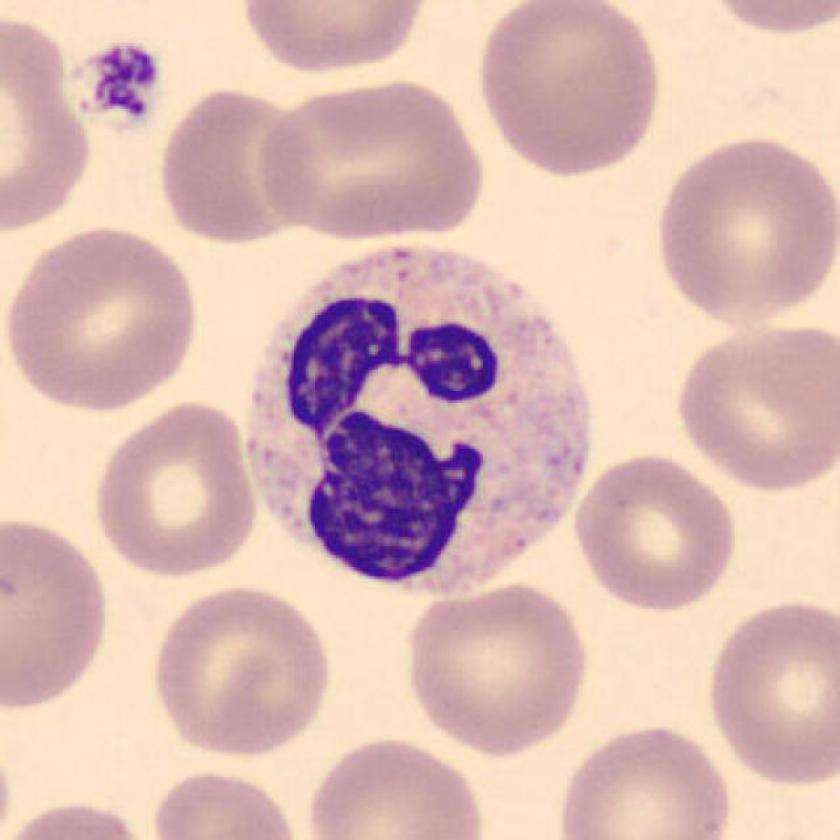neutrophil: (245, 246, 588, 597)
